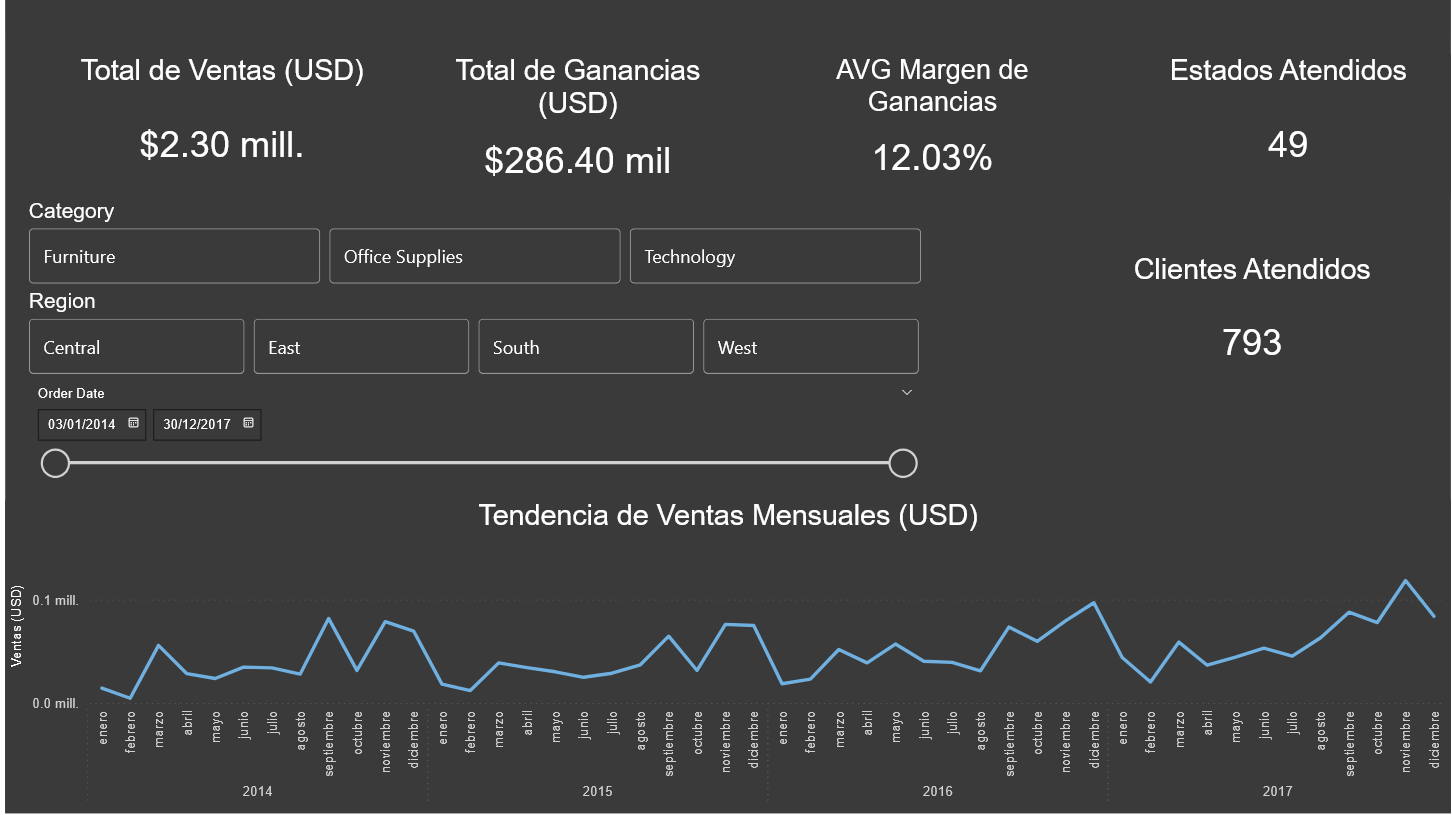

The dashboard page shown, as its layout file describes it:
{"tool":"powerbi","page":{"name":"Página 1","canvas":[1280,720],"ordinal":0},"visuals":[{"type":"card","title":"Total de Ventas (USD)","fields":{"Values":["Sum(Orders.Sales)"]},"box":[48,48,288,128],"z":0},{"type":"card","title":"Total de Ganancias (USD)","fields":{"Values":["Sum(Orders.Profit)"]},"box":[362.7,48,288,128],"z":1000},{"type":"card","title":"AVG Margen de Ganancias","fields":{"Values":["Avg(Orders.Profit Margin)"]},"box":[677.3,48,288,128],"z":2000},{"type":"card","title":"Estados Atendidos","fields":{"Values":["Count(Orders.State)"]},"box":[992,48,288,128],"z":3000},{"type":"card","title":"Clientes Atendidos","fields":{"Values":["Count(Orders.Customer Name)"]},"box":[960,224,288,128],"z":4000},{"type":"lineChart","title":"Tendencia de Ventas Mensuales (USD) ","fields":{"Category":["Sample - Superstore.Order Date.Variación.Jerarquía de fechas.Año","Sample - Superstore.Order Date.Variación.Jerarquía de fechas.Mes"],"Y":["Sum(Sample - Superstore.Sales)"]},"box":[0,441.7,1280,278.3],"z":5000},{"type":"advancedSlicerVisual","fields":{"Values":["Sample - Superstore.Category"]},"box":[16,176,800,80],"z":6000},{"type":"advancedSlicerVisual","fields":{"Values":["Sample - Superstore.Region"]},"box":[16,256,800,80],"z":7000},{"type":"slicer","fields":{"Values":["Sample - Superstore.Order Date"]},"box":[16,336,800,96],"z":8000}]}

Visuals, with their boxes in screenshot pixels (x1, y1, x2, y2), scaled from the page's 1280x720 canvas onto the 1452x815 screenshot:
"Total de Ventas (USD)" card: (x1=54, y1=54, x2=381, y2=199)
"Total de Ganancias (USD)" card: (x1=411, y1=54, x2=738, y2=199)
"AVG Margen de Ganancias" card: (x1=768, y1=54, x2=1095, y2=199)
"Estados Atendidos" card: (x1=1125, y1=54, x2=1451, y2=199)
"Clientes Atendidos" card: (x1=1089, y1=254, x2=1416, y2=398)
"Tendencia de Ventas Mensuales (USD) " lineChart: (x1=0, y1=500, x2=1451, y2=814)
advancedSlicerVisual - Sample - Superstore.Category: (x1=18, y1=199, x2=926, y2=290)
advancedSlicerVisual - Sample - Superstore.Region: (x1=18, y1=290, x2=926, y2=380)
slicer - Sample - Superstore.Order Date: (x1=18, y1=380, x2=926, y2=489)
